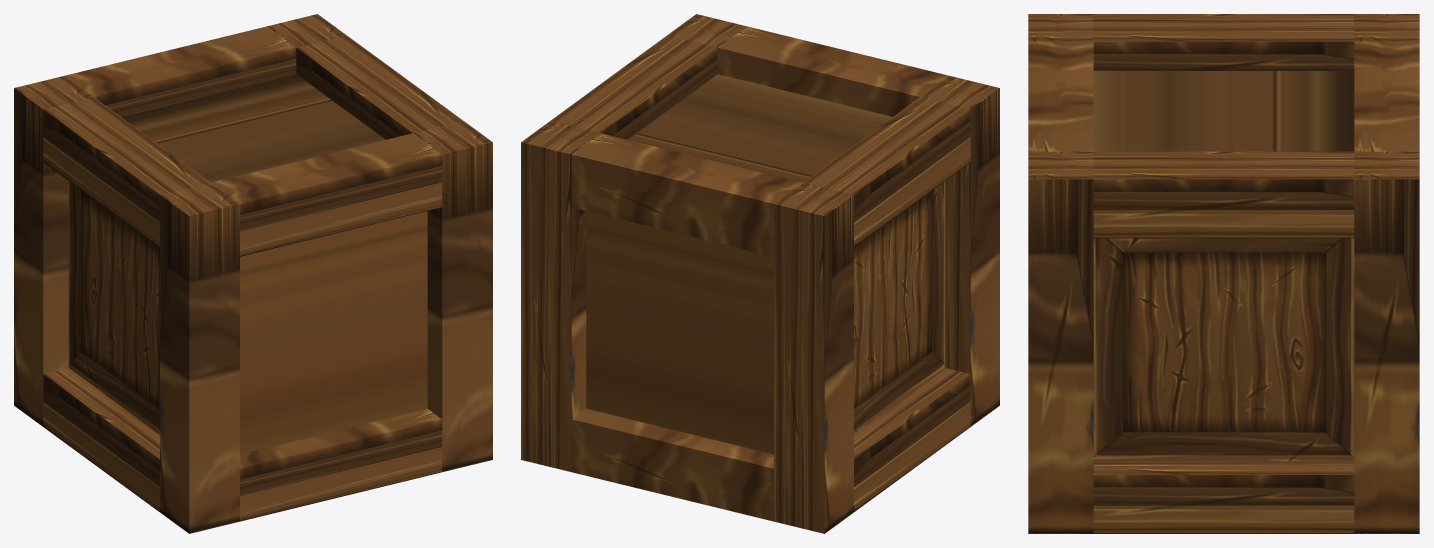
The model's file is crate.fbx.
The picture shows the model from 3 angles, left to right: view 1: azimuth 30°, elevation 25°; view 2: azimuth 150°, elevation 25°; view 3: azimuth 270°, elevation 25°; orthographic projection. The views are drawn at different scales.
Visible parts, largest first — view 1: Crate; view 2: Crate; view 3: Crate.
Boxes of the visible parts, box(x1,y1,x2,y2) form: Crate: box(14, 14, 492, 533); Crate: box(521, 14, 999, 533); Crate: box(1028, 14, 1419, 533).
Bounding box in the file's own units: 1.2 × 1.2 × 1.2.
Materials: 1 (1 with a texture image).
